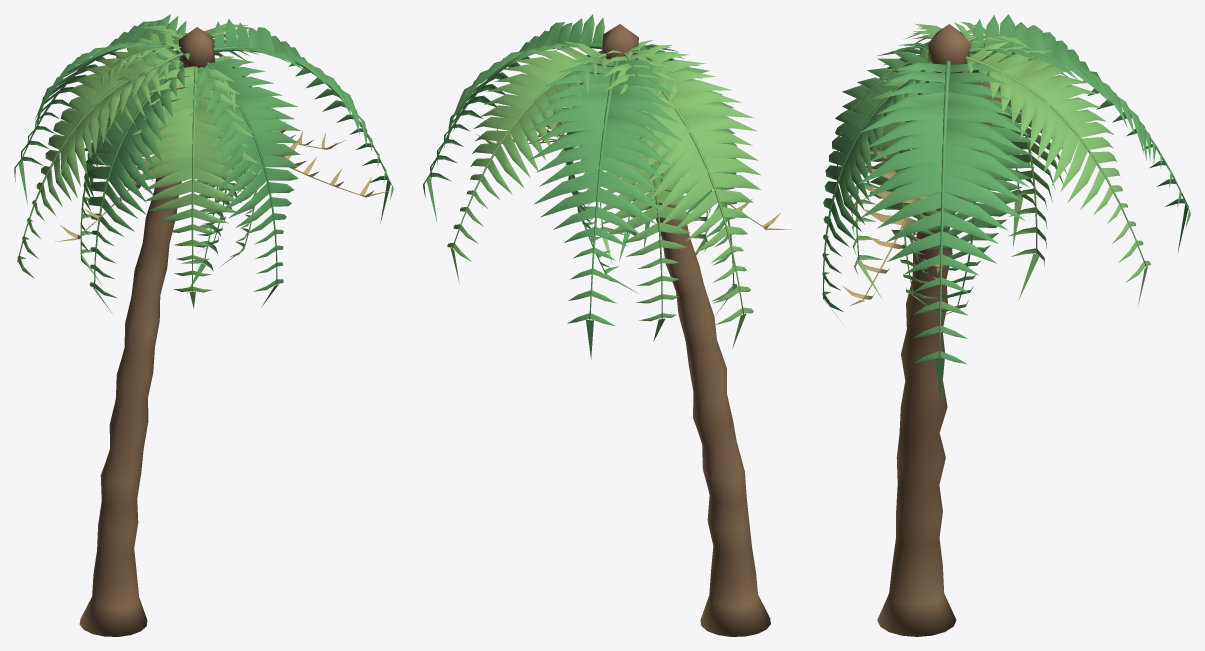
Rendered from palm_a.glb.
3 views of the same model, side by side, from view 1: azimuth 30°, elevation 25°; view 2: azimuth 150°, elevation 25°; view 3: azimuth 270°, elevation 25° (orthographic). The views are drawn at different scales.
Visible parts, largest first — view 1: palm_a; view 2: palm_a; view 3: palm_a.
Part boxes in pixels (x1=…): palm_a: x1=14, y1=14, x2=393, y2=636; palm_a: x1=423, y1=14, x2=791, y2=636; palm_a: x1=822, y1=14, x2=1190, y2=636.
Bounding box in the file's own units: 5.77 × 9 × 4.62.
